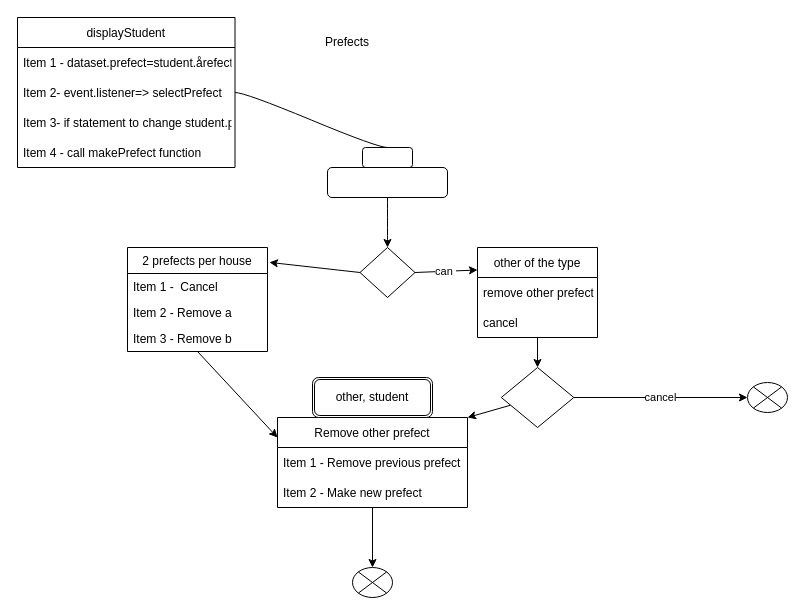
Some shapes in this 805 by 615 pixel diagram are drawn without their labels. The shapes that lost their labels are listed below. From the top down, each one's centre as x and y in pixels, then its label:
[387,157]: student
[387,182]: makePrefect
